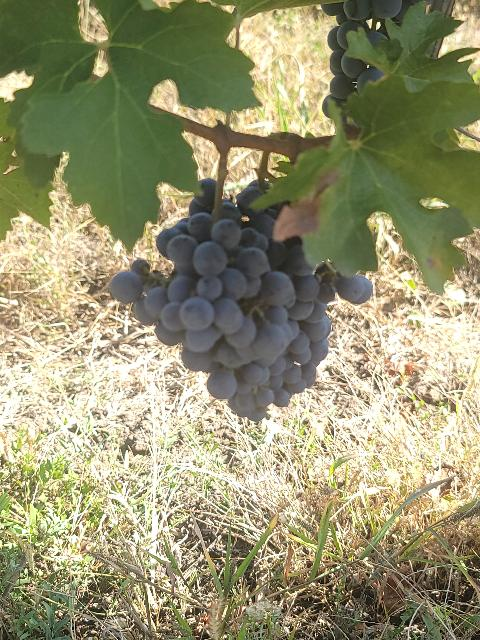grapes: (110, 179, 372, 421)
